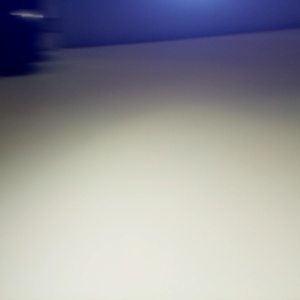alive_ball: (133, 123, 297, 293), (176, 20, 242, 91)
dead_ball: (260, 123, 300, 266), (291, 56, 300, 102)
